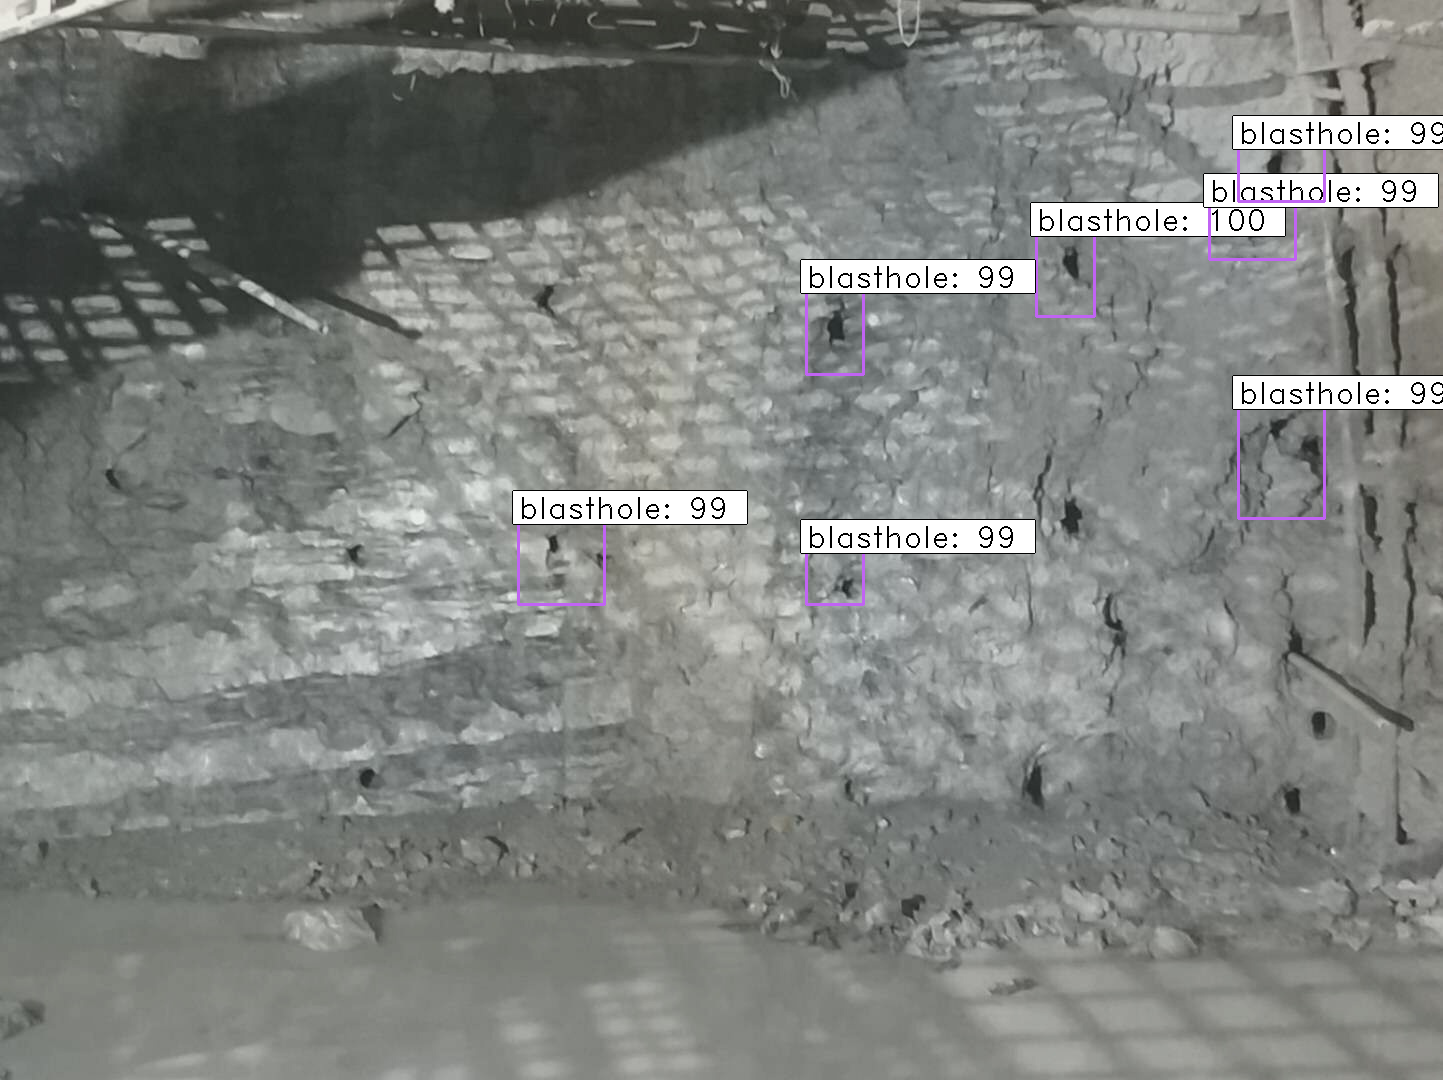blasthole: (504, 255, 575, 347), (81, 439, 157, 523), (792, 287, 876, 358), (1001, 749, 1079, 822), (1248, 127, 1330, 195), (320, 518, 390, 591), (1041, 480, 1104, 556), (1286, 692, 1353, 754), (328, 746, 404, 800), (822, 559, 889, 618), (520, 515, 577, 577), (1231, 209, 1291, 268), (1039, 236, 1102, 293), (1267, 773, 1320, 827)
